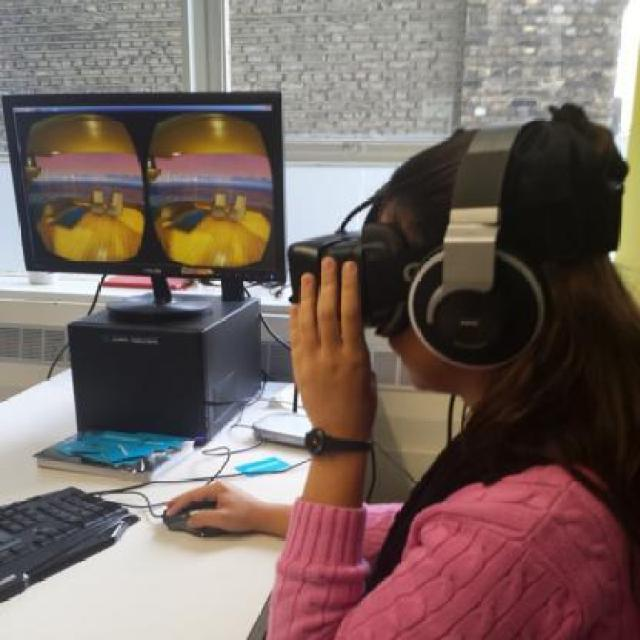earphone: (408, 98, 587, 422)
laptop_computer: (0, 65, 301, 303)
mouse: (162, 492, 255, 548)
